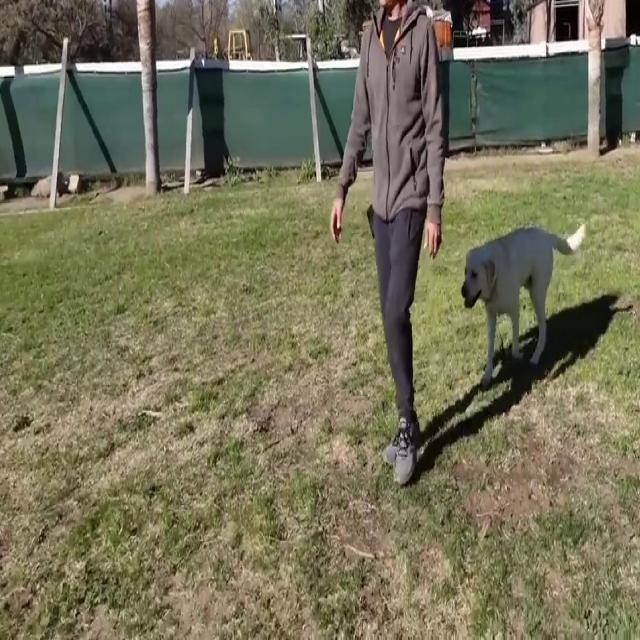Unleashed_Dog: (391, 208, 586, 388)
